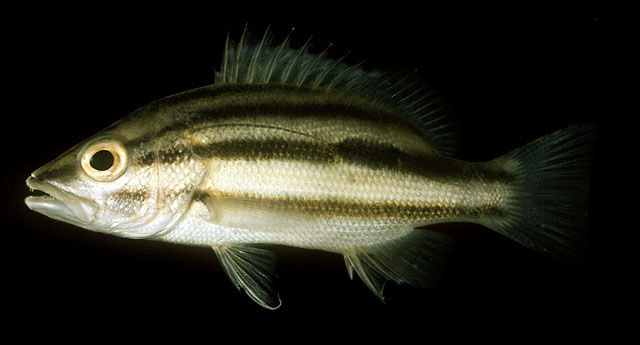fish: (23, 25, 581, 309)
